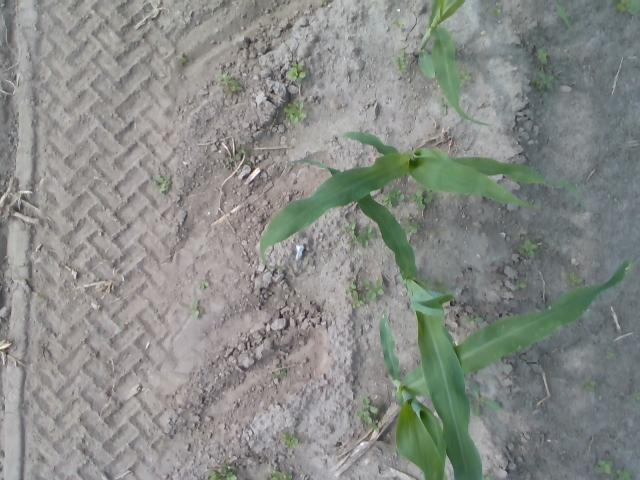Maize: (292, 159, 483, 480), (379, 261, 630, 480), (260, 132, 580, 268), (413, 0, 572, 127)
Weeds: (469, 380, 500, 410), (359, 398, 378, 426), (284, 102, 304, 123), (364, 279, 384, 299), (412, 190, 431, 211), (518, 239, 537, 258), (536, 72, 556, 90), (152, 175, 172, 193), (286, 63, 305, 81), (357, 228, 376, 246), (207, 469, 238, 480), (264, 470, 294, 480), (222, 74, 240, 90), (618, 0, 640, 13), (352, 289, 365, 308), (596, 460, 612, 474), (282, 431, 298, 444), (403, 222, 420, 234), (458, 68, 469, 85), (434, 281, 450, 292), (536, 50, 548, 64), (390, 190, 404, 202), (463, 315, 483, 323), (617, 469, 631, 480), (193, 300, 201, 318), (584, 378, 596, 390), (568, 274, 580, 286), (346, 280, 356, 294), (346, 223, 356, 236), (398, 58, 408, 70), (380, 195, 392, 205), (394, 20, 404, 30), (178, 54, 187, 64), (199, 280, 209, 289), (605, 350, 614, 358), (517, 281, 527, 288), (494, 6, 502, 14), (404, 213, 412, 221), (635, 391, 640, 400)
